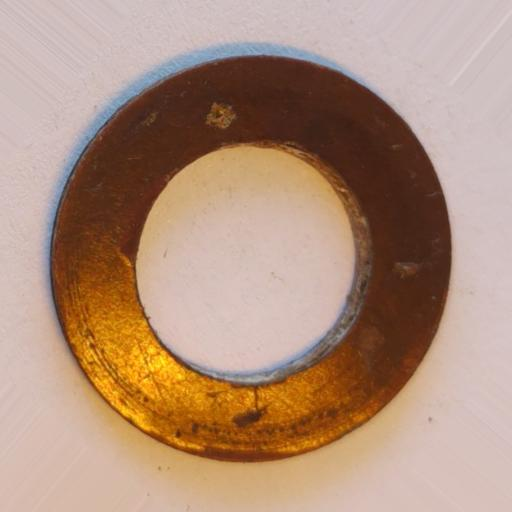defect: (205, 101, 237, 129)
